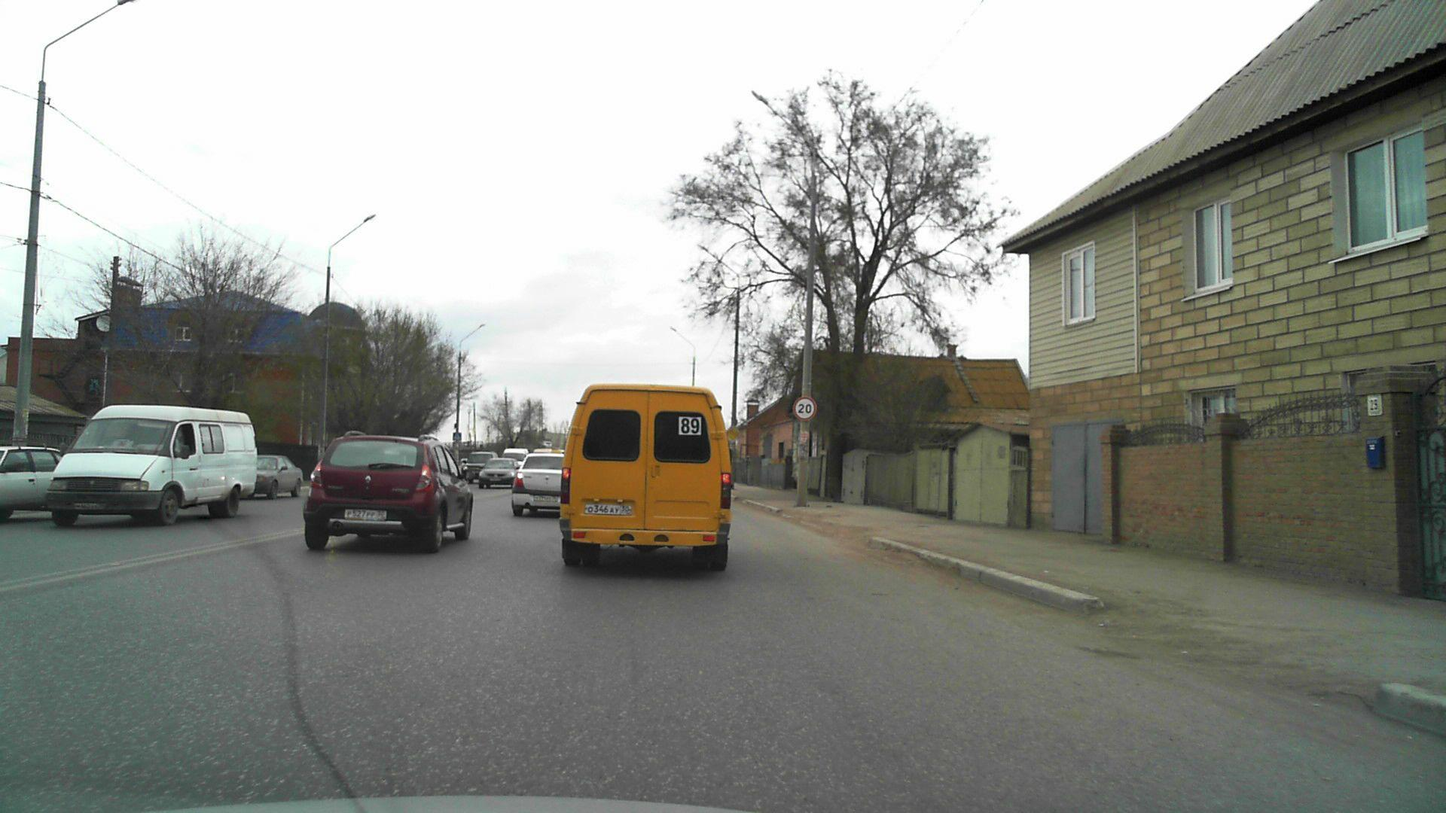road_sign: (793, 396, 817, 421)
